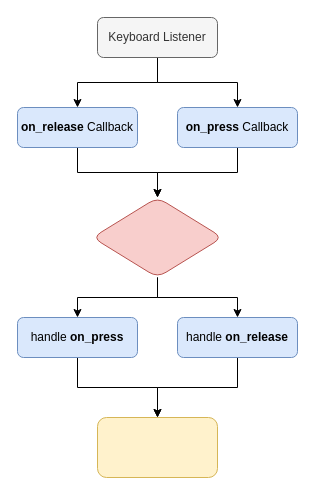
The diagram is 315 pixels wide and 495 high, and some of its shapes have lost their labels. The shapes that lost their labels are listed below. From the top down, each one's centre as x and y in pixels, then its label:
At point (157, 237): "Keyboard Event".
At point (157, 447): "Write to log file".
